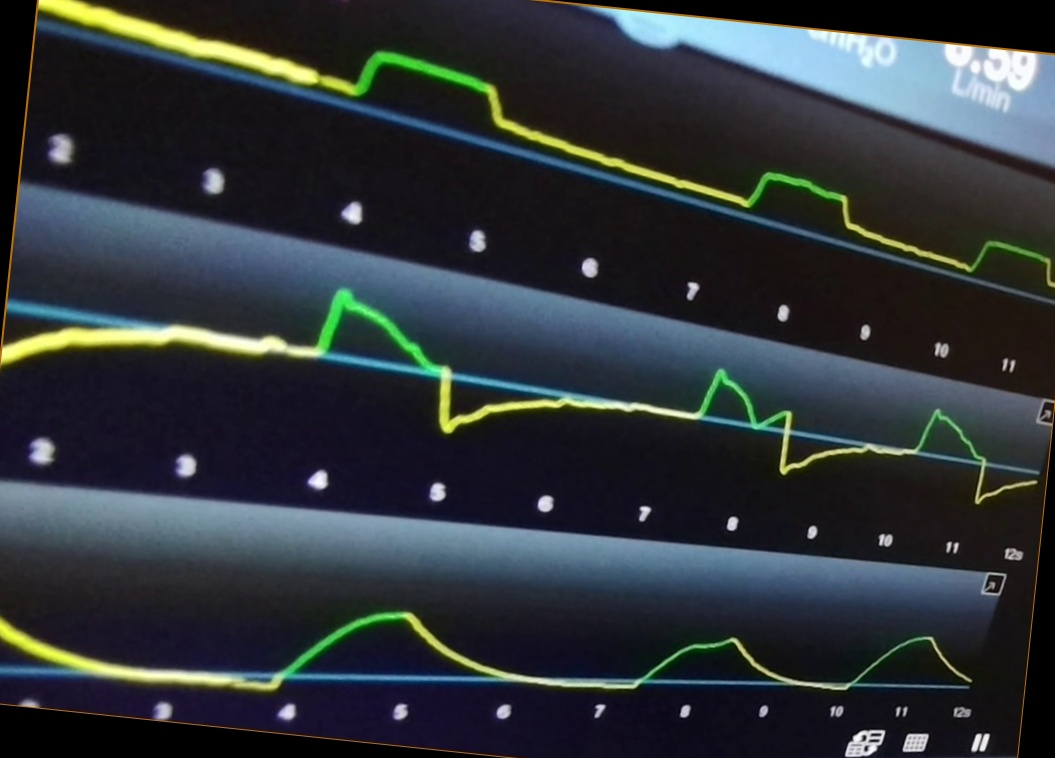Double_Triggering Flow: (29, 291, 1034, 503)
Double_Triggering Volume: (18, 595, 975, 698)
